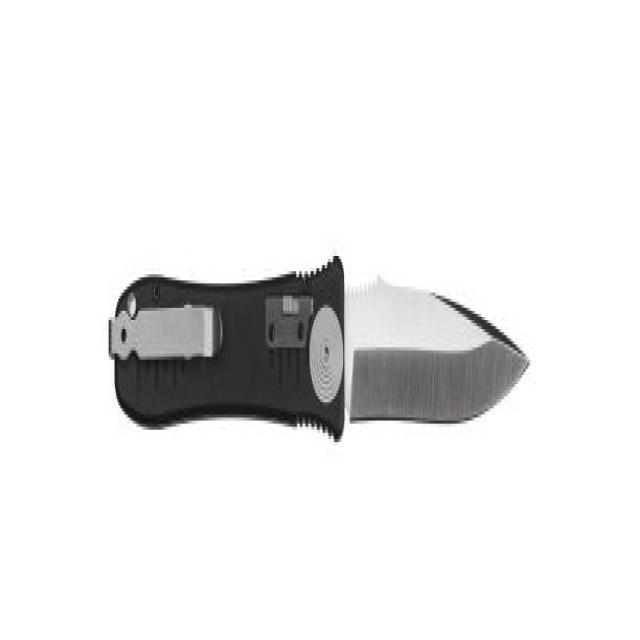knife: (107, 249, 529, 449)
